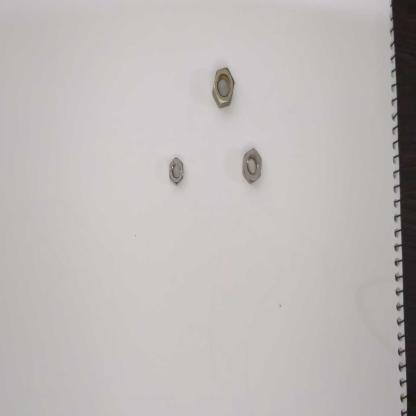NUTS: (210, 64, 238, 113), (241, 142, 263, 185), (167, 156, 190, 191)
